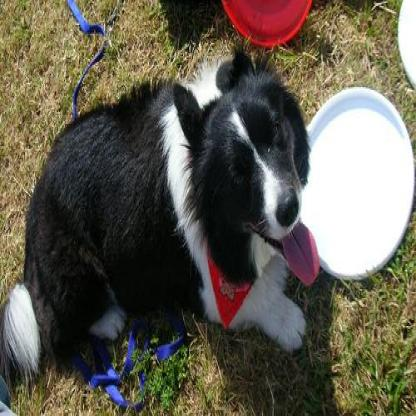Border_collie: (0, 34, 321, 381)
